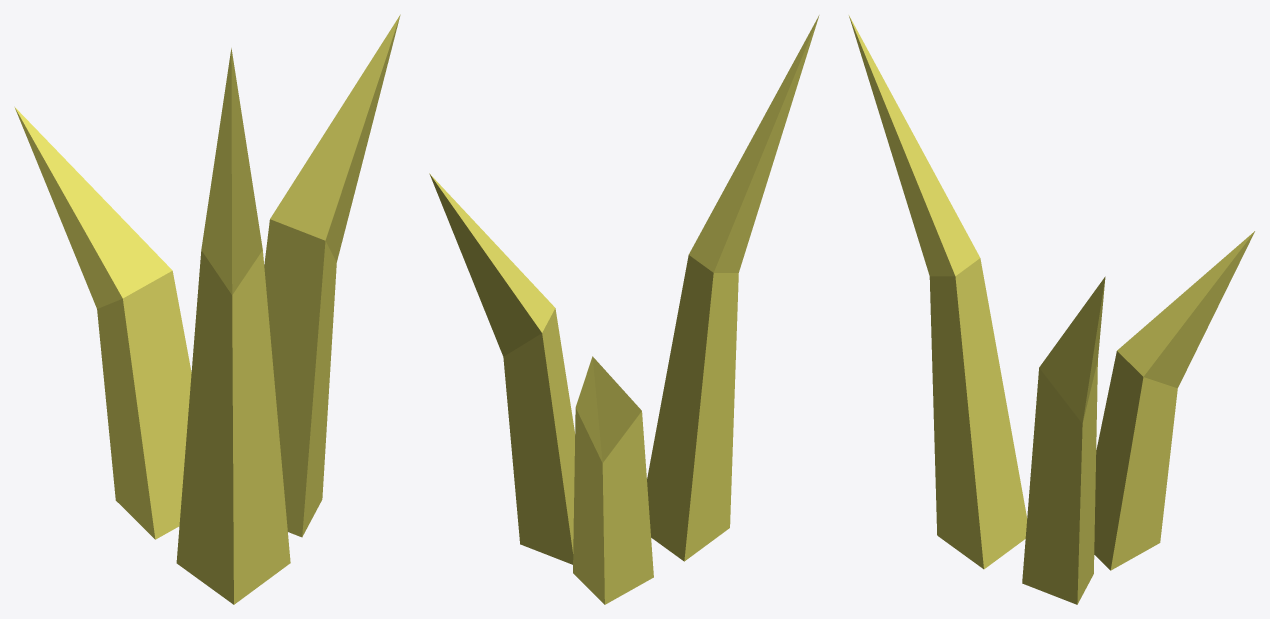
The model's file is DeadGrass2.fbx.
3 renders of one model, left to right at view 1: azimuth 30°, elevation 25°; view 2: azimuth 150°, elevation 25°; view 3: azimuth 270°, elevation 25°, orthographic. The views are drawn at different scales.
Visible parts, largest first — view 1: Circle.021; view 2: Circle.021; view 3: Circle.021.
Part boxes in pixels (left/top/right/bottom): Circle.021: left=14, top=14, right=400, bottom=604; Circle.021: left=429, top=15, right=819, bottom=604; Circle.021: left=849, top=15, right=1254, bottom=604.
Bounding box in the file's own units: 88.52 × 158 × 117.
